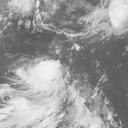cyclone: (24, 59, 65, 95)
